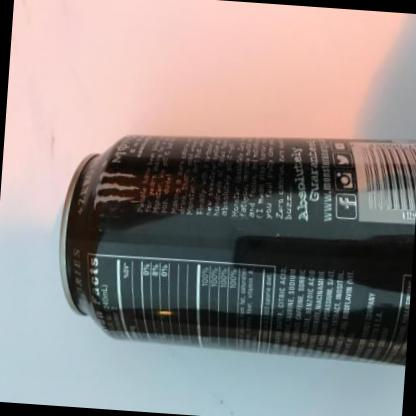Metal: (61, 135, 416, 366)
